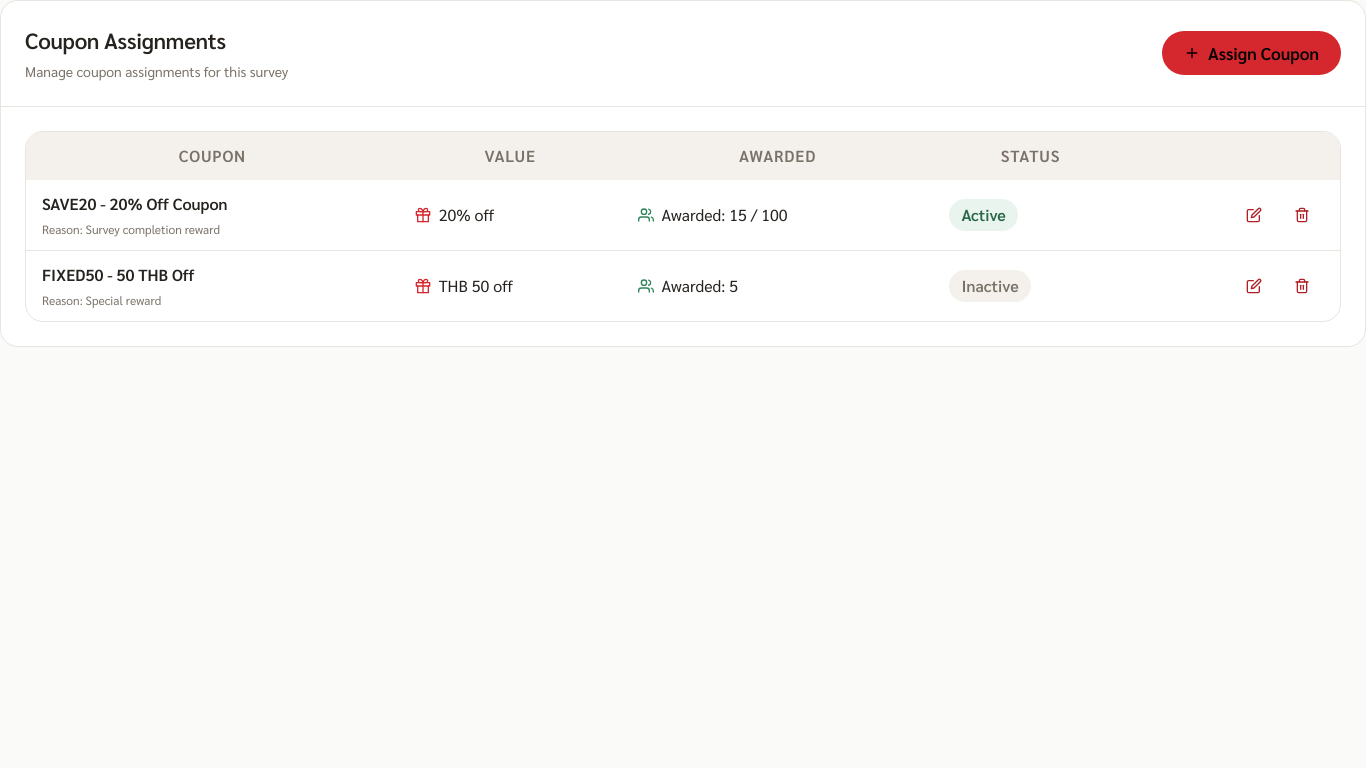
Test: SurveyCouponAssignments › AssignCouponModal › should show max awards input field
Check: the heading "Coupon Assignments" is shown, box [25,26,226,54]
Click the button "Assign Coupon" at (1252, 53), box [1162,31,1341,75]
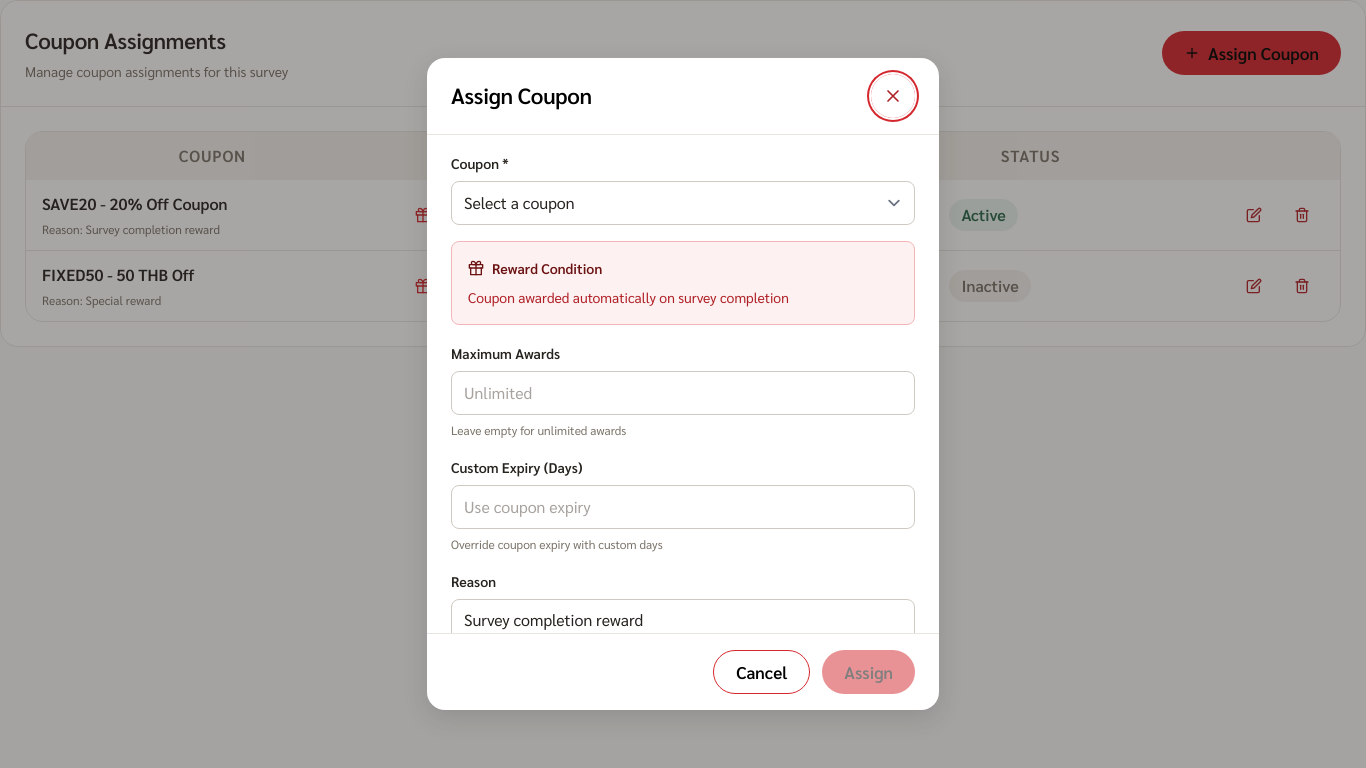
Check: the text "Maximum Awards" is shown, box [451,344,560,362]
Check: the number field with placeholder "Unlimited" is shown, box [451,371,915,415]
